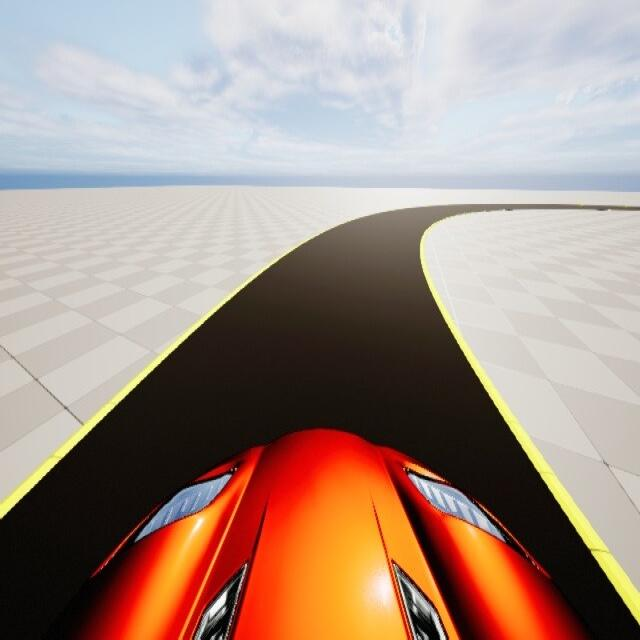lane: (0, 207, 639, 639)
